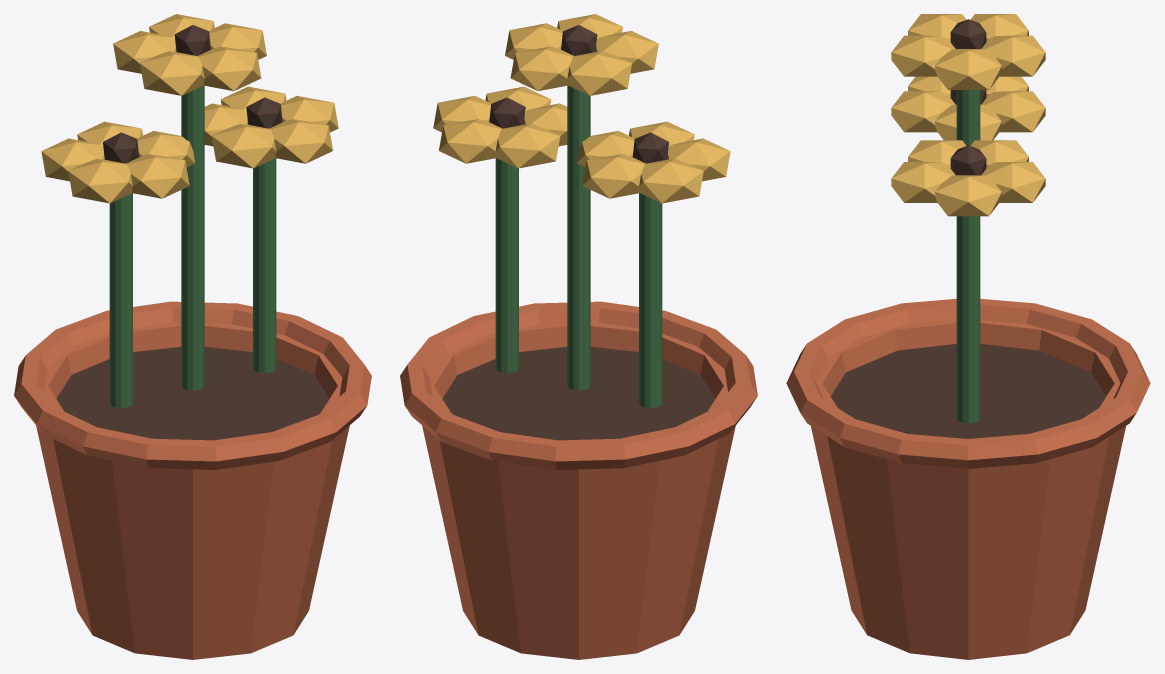
File: market_09_Flower_Pot.glb
3 views of the same model, side by side, from view 1: azimuth 30°, elevation 25°; view 2: azimuth 150°, elevation 25°; view 3: azimuth 270°, elevation 25° (orthographic).
Visible parts, largest first — view 1: 09_Flower_Pot; view 2: 09_Flower_Pot; view 3: 09_Flower_Pot.
Part boxes in pixels (x1,y1,x2,y2): 09_Flower_Pot: (14, 14, 371, 659); 09_Flower_Pot: (400, 14, 757, 659); 09_Flower_Pot: (786, 14, 1150, 659).
Size of the model in its own units: 0.436 by 0.781 by 0.436.
